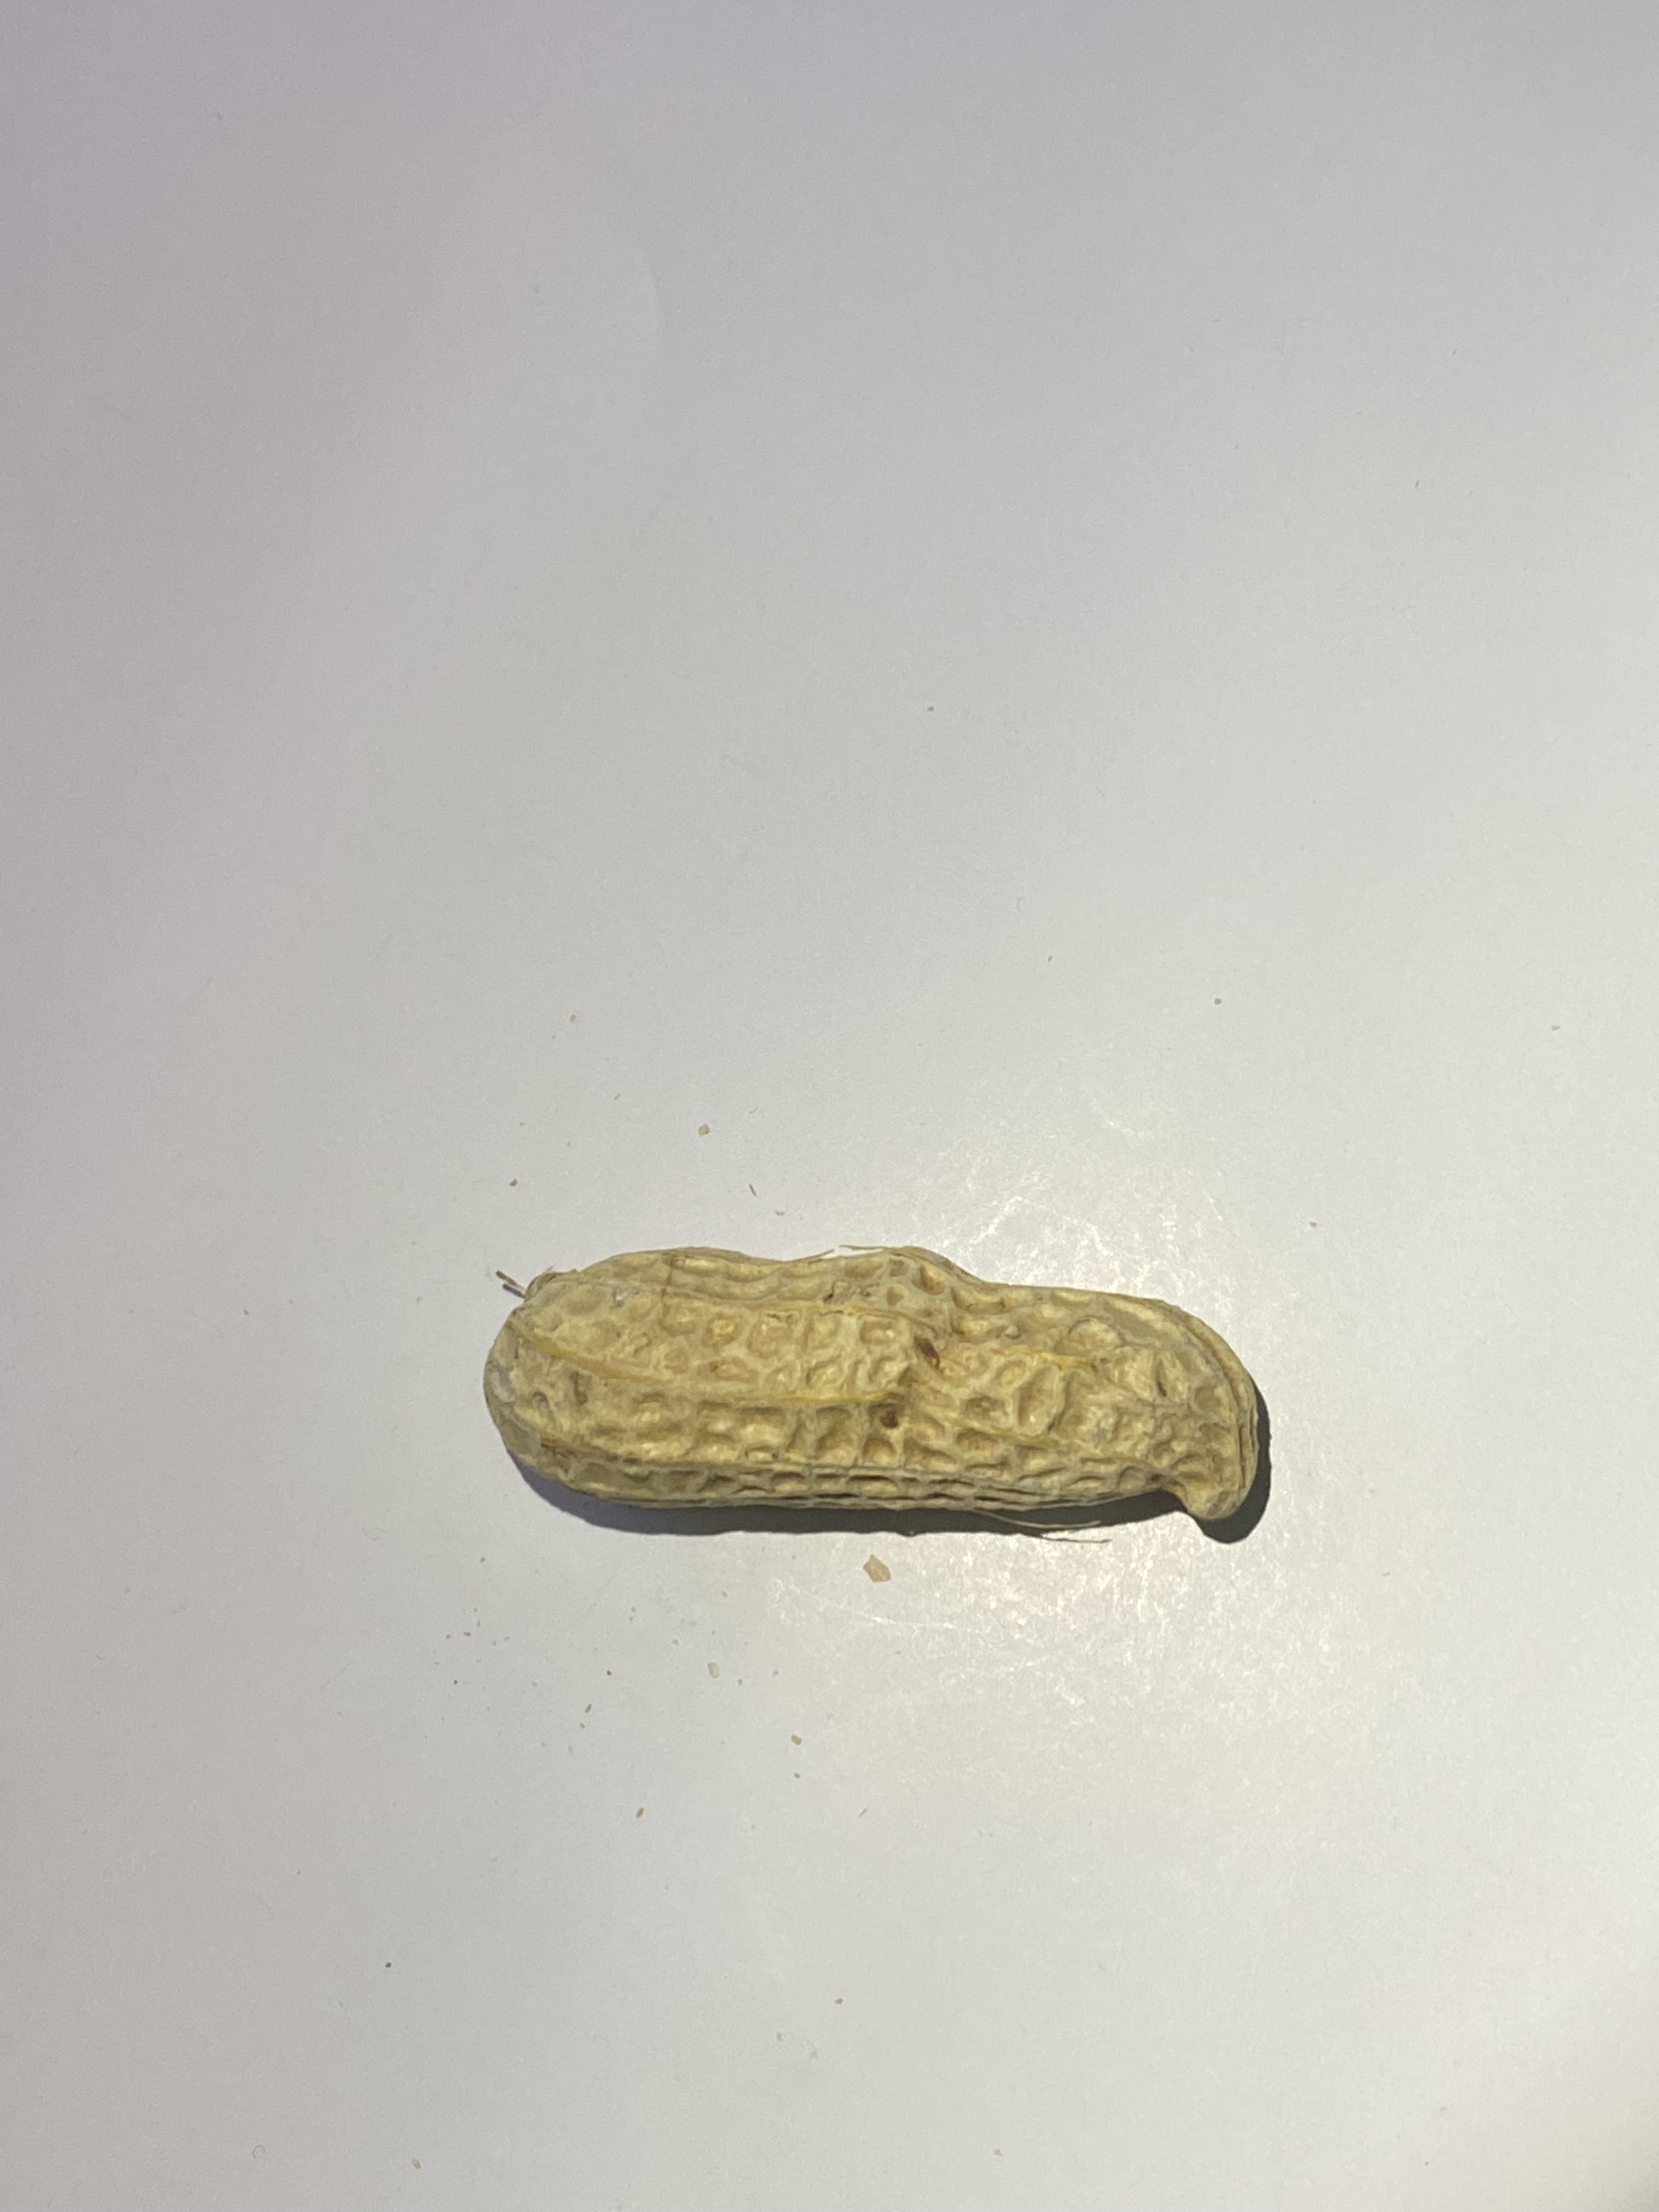kacang3: (464, 1233, 1277, 1573)
